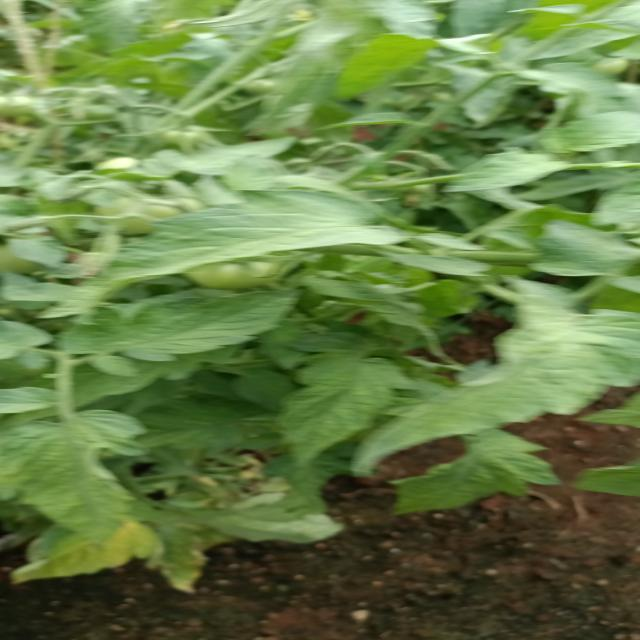Healthy Leaf: (71, 183, 401, 303), (86, 285, 307, 373)
